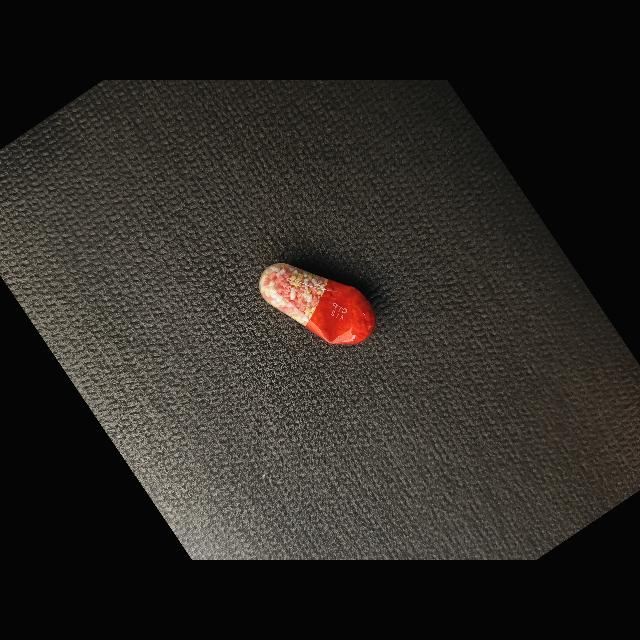Defective Capsule: (259, 263, 376, 345)
